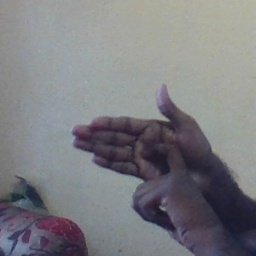R: (69, 83, 206, 228)
